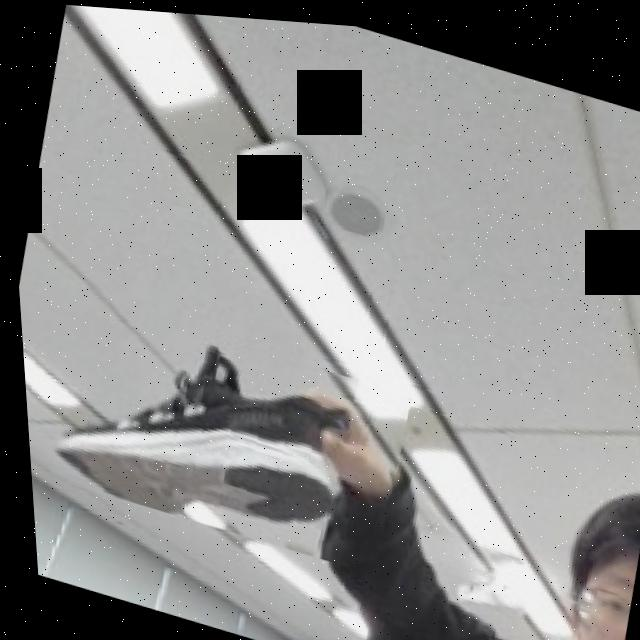shoe: (14, 273, 419, 574)
